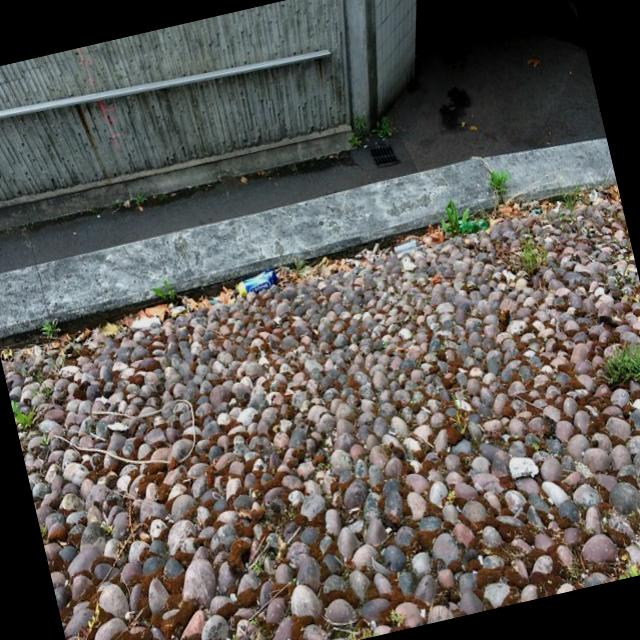Trash: (237, 270, 279, 298)
